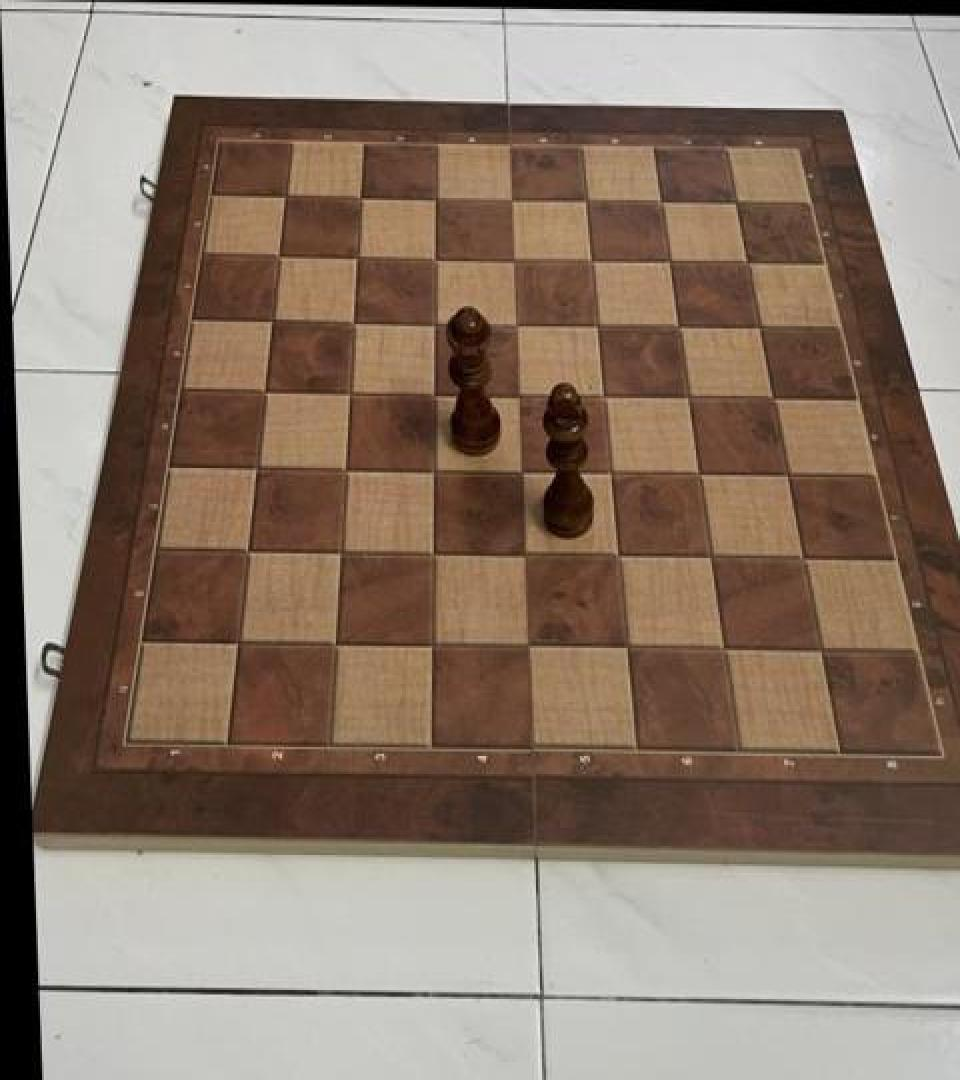xcorner: (345, 175, 379, 214), (270, 174, 304, 213), (497, 237, 531, 276), (418, 371, 452, 410), (513, 625, 547, 664), (719, 181, 753, 219), (644, 180, 678, 218), (569, 179, 603, 217), (494, 178, 528, 216), (419, 177, 453, 215), (730, 241, 764, 279), (652, 240, 686, 278), (574, 238, 608, 276), (419, 236, 453, 274), (342, 235, 376, 273), (264, 234, 298, 272), (743, 306, 777, 344), (661, 305, 695, 343), (580, 304, 614, 342), (499, 303, 533, 341), (419, 300, 453, 338), (338, 300, 372, 338), (257, 298, 291, 336), (756, 377, 790, 415), (671, 376, 705, 414), (587, 374, 621, 412), (502, 372, 536, 410), (334, 370, 368, 408), (250, 368, 284, 406), (771, 454, 805, 492), (682, 452, 716, 490), (594, 451, 628, 489), (506, 449, 540, 487), (418, 448, 452, 486), (330, 446, 364, 484), (242, 444, 276, 482), (787, 538, 821, 576), (694, 537, 728, 575), (602, 534, 636, 572), (509, 534, 543, 572), (417, 531, 451, 569), (325, 530, 359, 568), (233, 528, 267, 566), (804, 631, 838, 669), (707, 629, 741, 667), (610, 627, 644, 665), (417, 624, 451, 662), (320, 621, 354, 659), (224, 620, 258, 658)
